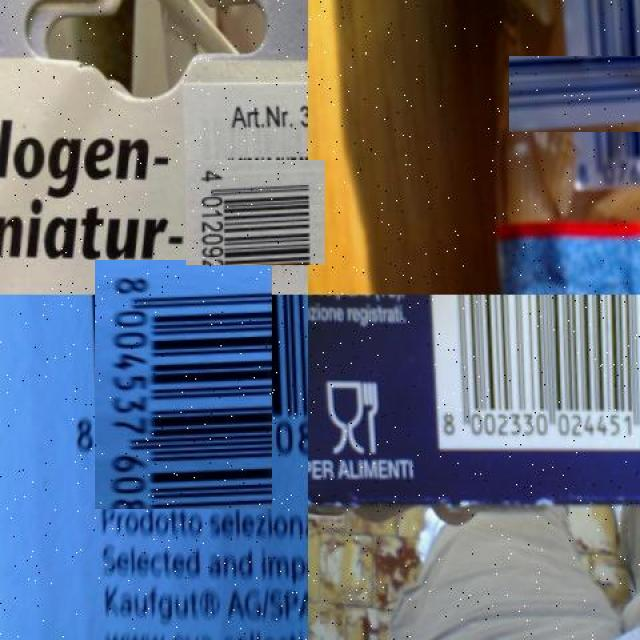Barcode: (77, 277, 290, 491), (432, 295, 640, 452), (194, 151, 317, 274), (536, 29, 640, 160)
